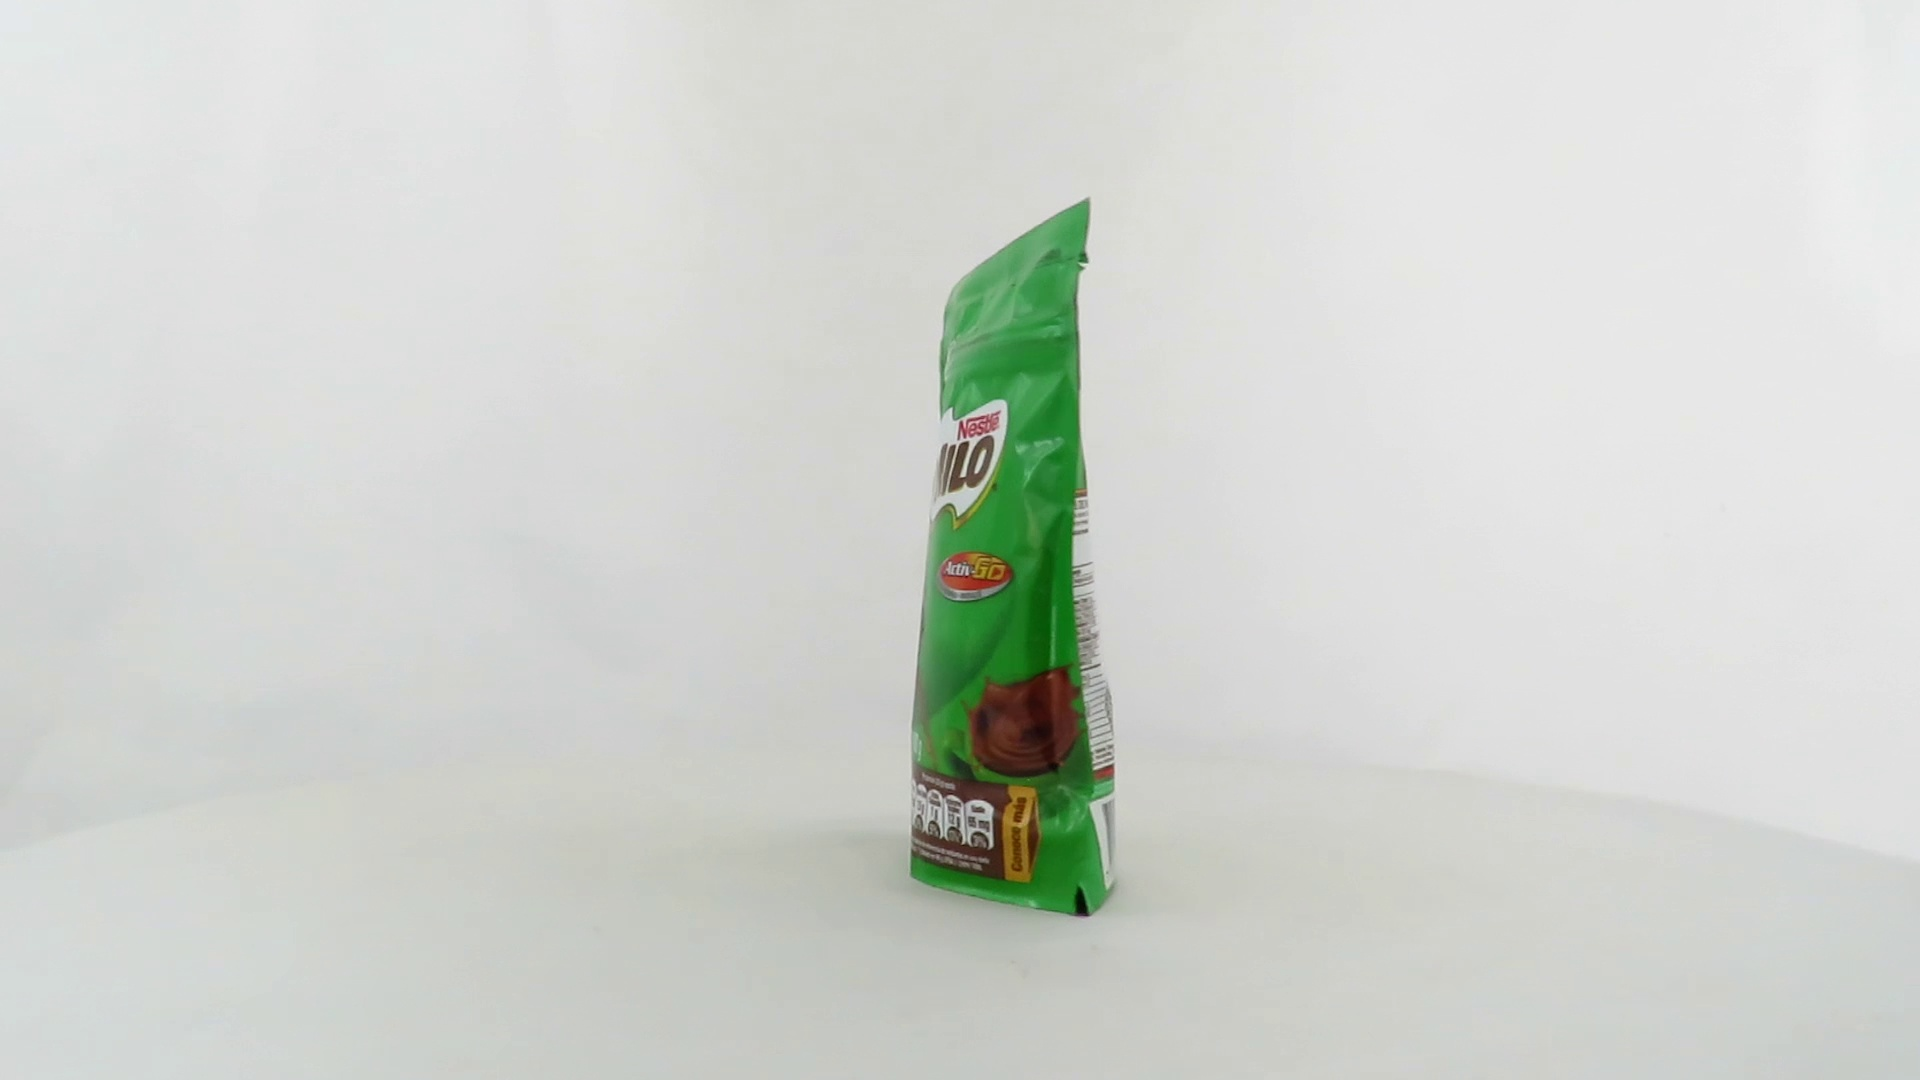COL0170203DYP10000: (905, 193, 1126, 923)
